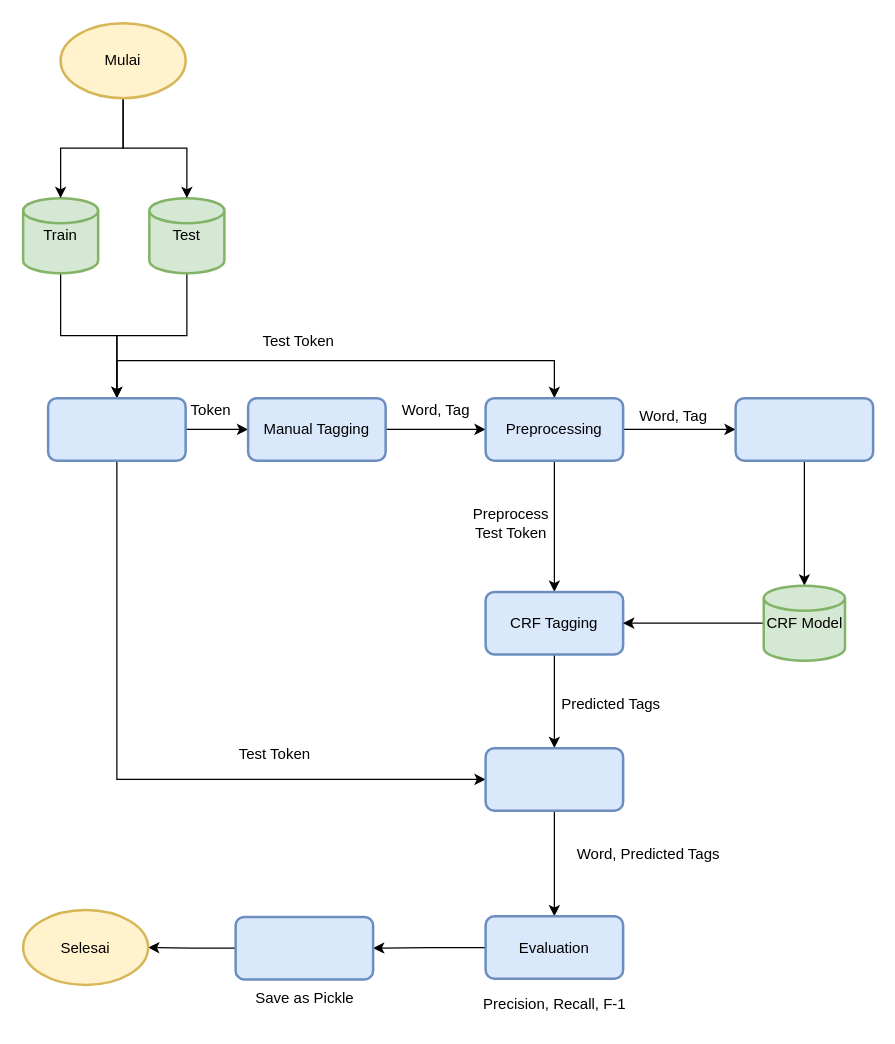
Image size: 895x1044. Some labels were removed from this diagram. The shapes that lost their labels are listed below. From the top down, each one's centre as x and y in pixels, then its label:
the point at 116,428: Tokenization
the point at 804,428: CRF Training
the point at 554,778: Word Tag Mapping
the point at 304,947: Output
